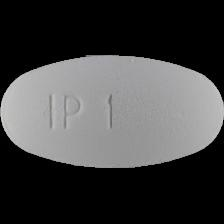10544-535: (0, 0, 224, 224)
